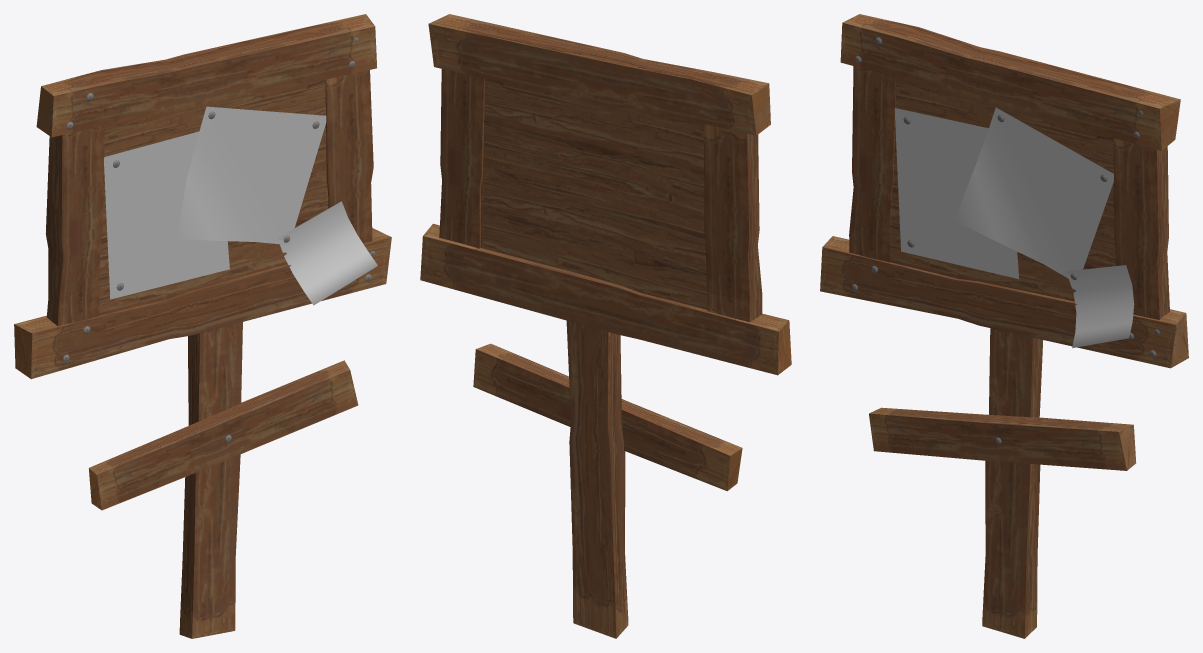
File: SM_Farm_Bilboard_01.fbx
3 views of the same model, side by side, from view 1: azimuth 30°, elevation 25°; view 2: azimuth 150°, elevation 25°; view 3: azimuth 330°, elevation 25° (orthographic).
Parts seen in each view (by area): view 1: SM_Farm_Bilboard_01_LOD0; view 2: SM_Farm_Bilboard_01_LOD0; view 3: SM_Farm_Bilboard_01_LOD0.
Boxes of the visible parts, x1,y1,x2,y2 form: SM_Farm_Bilboard_01_LOD0: (14,14,391,638); SM_Farm_Bilboard_01_LOD0: (420,14,791,638); SM_Farm_Bilboard_01_LOD0: (820,14,1188,638).
Bounding box in the file's own units: 103 × 158 × 16.14.
